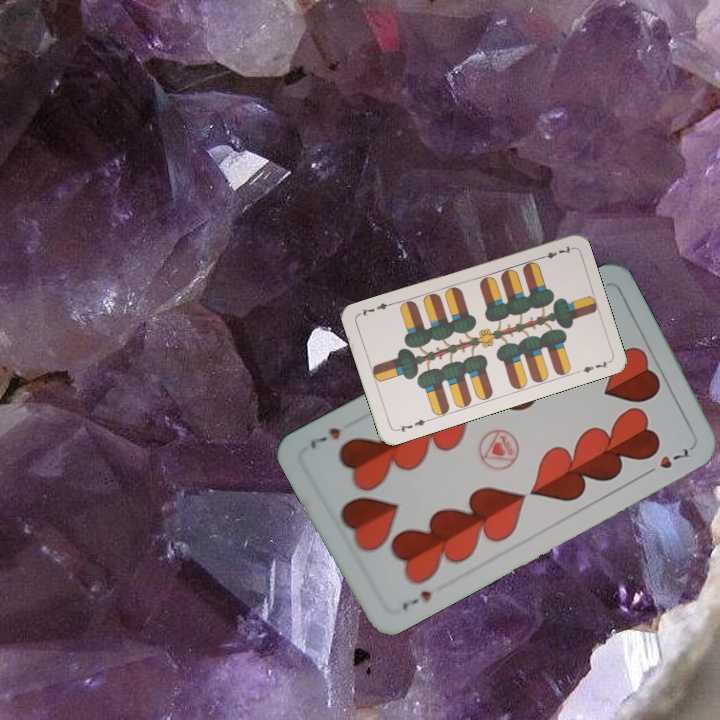E7: (392, 415, 432, 435), (535, 242, 574, 262)
H7: (397, 586, 434, 615)
